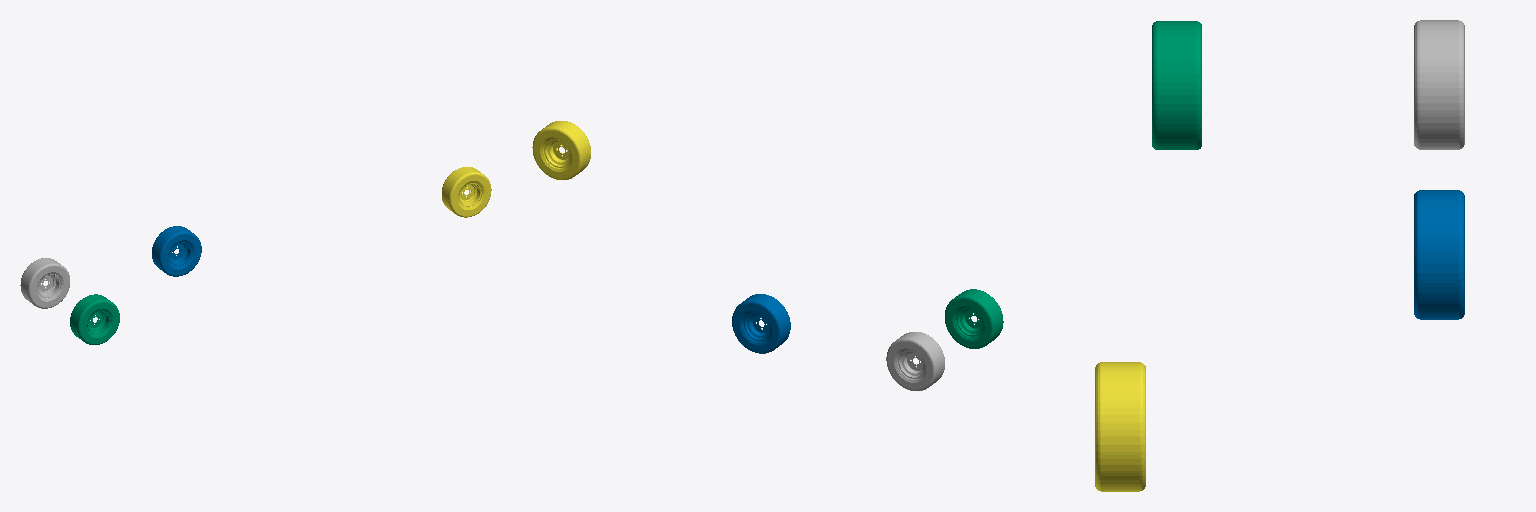
URDF robot description (t_car):
<?xml version="1.0" encoding="utf-8"?>
<!--
This URDF was automatically created by SolidWorks to URDF Exporter! Originally created by [author] ([email redacted])
Commit Version: 1.6.0-4-g7f85cfe  Build Version: 1.6.7995.38578
For more information, please see http://wiki.ros.org/sw_urdf_exporter
-->
<robot name="t_car">

  <link name="base_footprint">

  </link>

	<link name="base_link">
		<inertial>
			<origin xyz="-0.053121 0.001089 0.17871" rpy="0 0 0" />
			<mass value="77.764" />
			<inertia ixx="7.9281" ixy="0.022844" ixz="0.16982" iyy="4.4347" iyz="0.0099095" izz="10.26" />
		</inertial>
		<visual>
			<origin xyz="0 0 0" rpy="0 0 0" />
			<geometry>
				<mesh filename="package://t_car/meshes/base_link.dae" />
			</geometry>
			<material name="">
				<color rgba="0.75294 0.75294 0.75294 1" />
			</material>
		</visual>
		<collision>
			<origin xyz="0 0 0" rpy="0 0 0" />
			<geometry>
				<mesh filename="package://t_car/meshes/base_link.dae" />
			</geometry>
		</collision>
	</link>

  <joint name="base_joint" type="fixed">
    <origin xyz="0.0 0.0 0.0" rpy="0.0 0.0 0.0"/>
    <parent link="base_footprint"/>
    <child link="base_link"/>
    <axis xyz="0.0 0.0 0.0"/>
    <limit lower="0.0" upper="0.0" effort="0.0" velocity="0.0"/>
  </joint>

	<link name="sag_arka">
		<inertial>
			<origin xyz="-1.3366E-05 -0.0030415 -1.678E-05" rpy="0 0 0" />
			<mass value="6.5048" />
			<inertia ixx="0.18807" ixy="-3.2501E-08" ixz="-8.1749E-07" iyy="0.30704" iyz="-1.096E-08" izz="0.18807" />
		</inertial>
		<visual>
			<origin xyz="0 0 0" rpy="0 0 0" />
			<geometry>
				<mesh filename="package://t_car/meshes/tekerlers3.dae" scale="0.005 0.005 0.005"/>
			</geometry>
		</visual>
		<collision>
			<origin xyz="0 0 0" rpy="0 0 0" />
			<geometry>
				<mesh filename="package://t_car/meshes/tekerlers3.dae" scale="0.005 0.005 0.005"/>
			</geometry>
		</collision>
	</link>

	<joint name="sag_arka_joint" type="fixed">
		<origin xyz="-0.64123 -0.53838 -0.53564" rpy="0 0 0" />
		<parent link="base_link" />
		<child link="sag_arka" />
		<axis xyz="0 0 0" />
	</joint>

	<link name="sag_on">
		<inertial>
			<origin xyz="1.27450850964402E-05 -0.00304149200845161 1.72584483325806E-05" rpy="0 0 0" />
			<mass value="6.50475931401587" />
			<inertia ixx="0.188068194491919" ixy="-6.9647712347065E-08" ixz="-7.38648924788147E-07" iyy="0.307036832816159" iyz="1.73435389792954E-08" izz="0.188065986076596" />
		</inertial>
		<visual>
			<origin xyz="2.80 -0.25 0.55" rpy="0 0 0" />
			<geometry>
				<mesh filename="package://t_car/meshes/tekerlers3.dae" scale="0.005 0.005 0.005"/>
			</geometry>
		</visual>
		<collision>
			<origin xyz="2.80 -0.25 0.55" rpy="0 0 0" />
			<geometry>
				<mesh filename="package://t_car/meshes/tekerlers3.dae" scale="0.005 0.005 0.005"/>
			</geometry>
		</collision>
	</link>

	<joint name="sag_on_joint" type="fixed">
		<origin xyz="0.95877 -0.51338 -0.53265" rpy="0 0 0" />
		<parent link="base_link" />
		<child link="sag_on" />
		<axis xyz="0 0 0" />
	</joint>

	<link name="sol_on">
		<inertial>
			<origin xyz="-1.1358E-05 0.0030415 1.8202E-05" rpy="0 0 0" />
			<mass value="6.5048" />
			<inertia ixx="0.18807" ixy="-7.043E-08" ixz="3.8237E-07" iyy="0.30704" iyz="-7.9651E-09" izz="0.18807" />
		</inertial>
		<visual>
			<origin xyz="0 0 0" rpy="0 0 0" />
			<geometry>
				<mesh filename="package://t_car/meshes/tekerlers3.dae" scale="0.005 0.005  0.005"/>
			</geometry>
		</visual>
		<collision>
			<origin xyz="0 0 0" rpy="0 0 0" />
			<geometry>
				<mesh filename="package://t_car/meshes/tekerlers3.dae" scale="0.005 0.005 0.005"/>
			</geometry>
		</collision>
	</link>

	<joint name="sol_on_joint" type="fixed">
		<origin xyz="0.95877 0.50662 -0.53265" rpy="0 0 0" />
		<parent link="base_link" />
		<child link="sol_on" />
		<axis xyz="0 0 0" />
	</joint>

	<link name="sol_arka">
		<inertial>
			<origin xyz="-1.6 0.028538 -0.0029882" rpy="0 0 0" />
			<mass value="6.5051" />
			<inertia ixx="0.18807" ixy="-7.1377E-08" ixz="2.12E-07" iyy="0.30704" iyz="-7.5405E-09" izz="0.18807" />
		</inertial>
		<visual>
			<origin xyz="0 0 0" rpy="0 0 0" />
			<geometry>
				<mesh filename="package://t_car/meshes/tekerlers3.dae" scale="0.005 0.005 0.005"/>
			</geometry>
			<material name="">
				<color rgba="0.75294 0.75294 0.75294 1" />
			</material>
		</visual>
		<collision>
			<origin xyz="0 0 0" rpy="0 0 0" />
			<geometry>
				<mesh filename="package://t_car/meshes/tekerlers3.dae" scale="0.005 0.005 0.005"/>
			</geometry>
		</collision>
	</link>

	<joint name="sol_arka_joint" type="fixed">
		<origin xyz="-0.64123 0.50662 -0.53265" rpy="0 0 0" />
		<parent link="base_link" />
		<child link="sol_arka" />
		<axis xyz="0 0 0" />
	</joint>

</robot>

--- What the picture shows (computed from the rendered views, not written in the file) ---
3 views of the same robot in one strip: view 1: azimuth 30°, elevation 25°; view 2: azimuth 150°, elevation 25°; view 3: azimuth 270°, elevation 25° (orthographic).
Robot: t_car — 6 links, 5 joints (5 fixed); root link base_footprint; default pose: every joint at zero.
Links seen in each view (by area): view 1: sol_on, sag_arka, sol_arka, sag_on; view 2: sag_arka, sol_on, sol_arka, sag_on; view 3: sag_on, sol_on, sol_arka, sag_arka.
Link boxes in pixels (box(x1,y1,x2,y2)): sol_on: box(152, 226, 201, 276); sag_arka: box(70, 294, 119, 344); sol_arka: box(20, 258, 69, 308); sag_on: box(442, 167, 491, 217); sag_arka: box(945, 289, 1003, 348); sol_on: box(732, 294, 790, 353); sol_arka: box(886, 332, 944, 390); sag_on: box(532, 121, 590, 179); sag_on: box(1095, 362, 1145, 491); sol_on: box(1414, 190, 1464, 319); sol_arka: box(1414, 20, 1464, 149); sag_arka: box(1152, 21, 1201, 149).
Size in the robot's own frame: 4.91 by 1.47 by 1.07 metres.
4 mesh visuals loaded from 2 distinct referenced files (1 Collada DAE); not drawn: 1 (reference not matched to a file when rendering).
